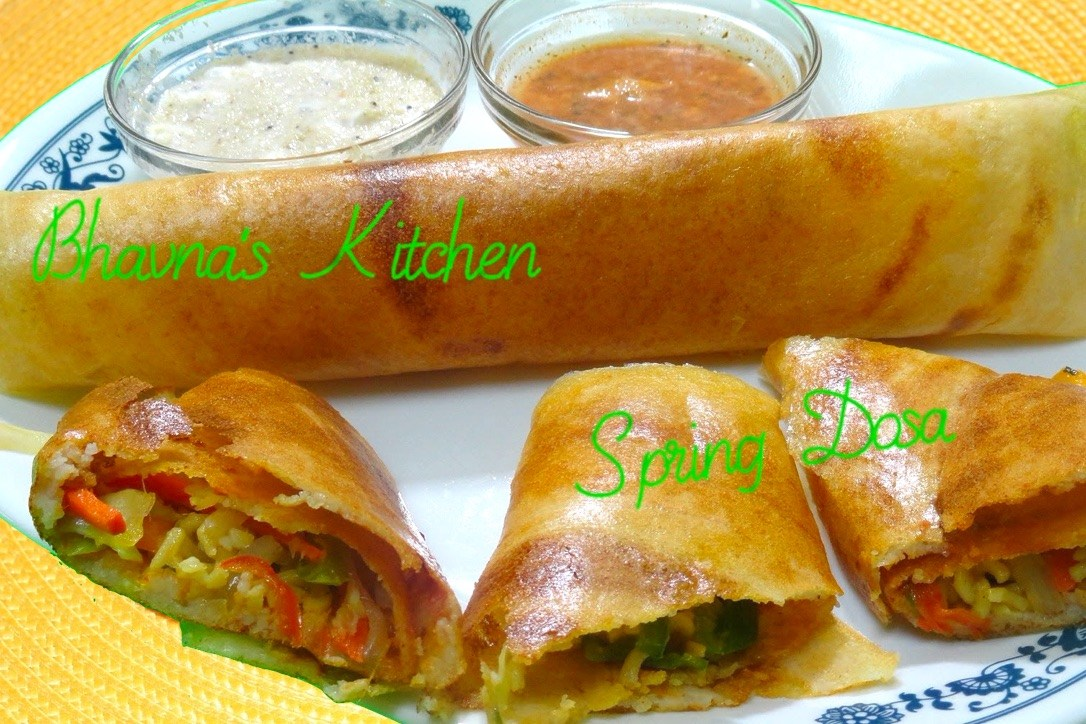dosa: (3, 85, 1086, 704)
